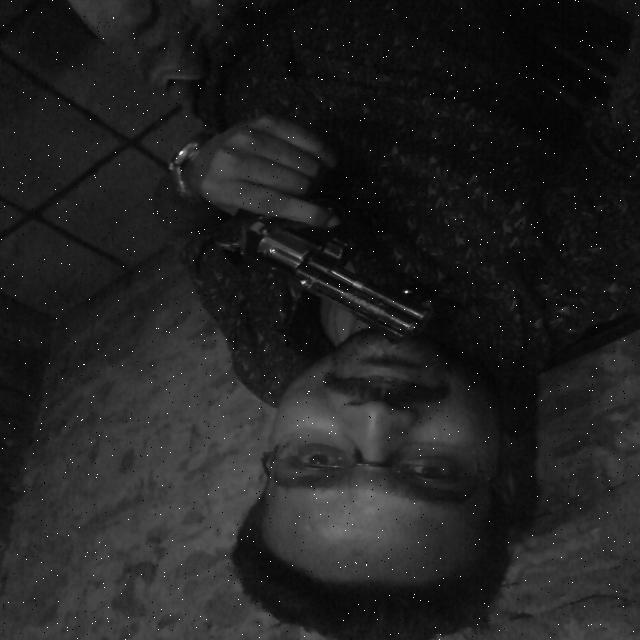gun: (201, 204, 452, 349)
